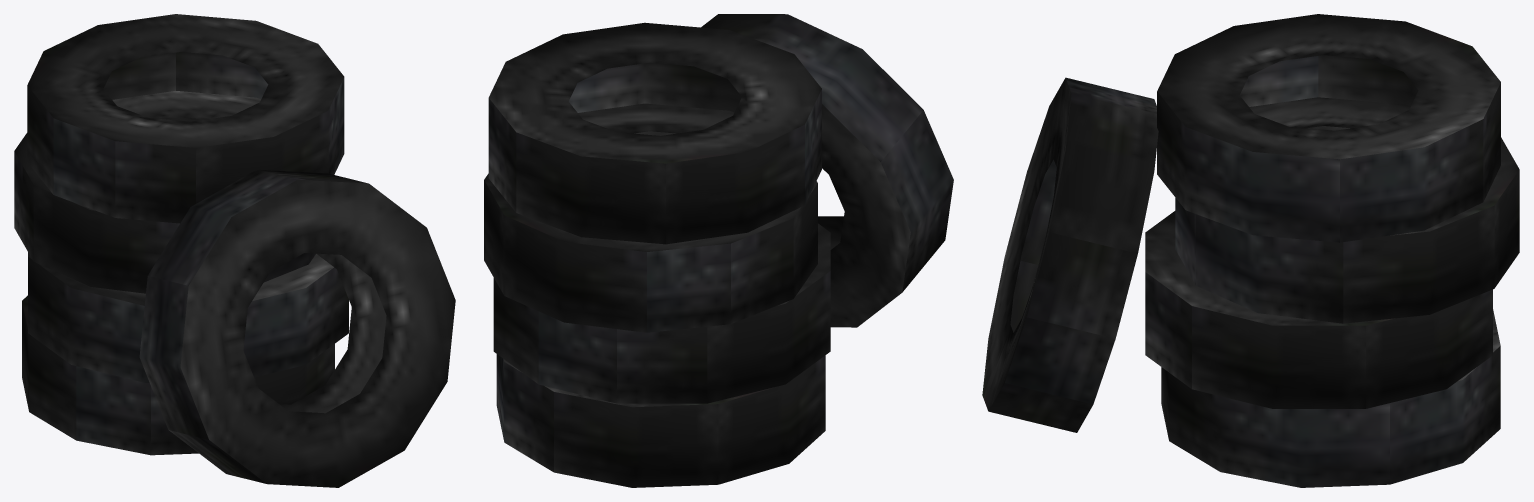
File: psx_industrial_pack_tires.glb
The picture shows the model from 3 angles, left to right: view 1: azimuth 30°, elevation 25°; view 2: azimuth 150°, elevation 25°; view 3: azimuth 270°, elevation 25°; orthographic projection. The views are drawn at different scales.
Visible parts, largest first — view 1: Tires; view 2: Tires; view 3: Tires.
Part boxes in pixels (bbox=[...]): Tires: bbox=[14, 14, 455, 487]; Tires: bbox=[484, 14, 953, 487]; Tires: bbox=[982, 14, 1519, 487].
Size of the model in its own units: 0.7687 by 0.8022 by 1.17.
Materials: 1 (1 with a texture image).
